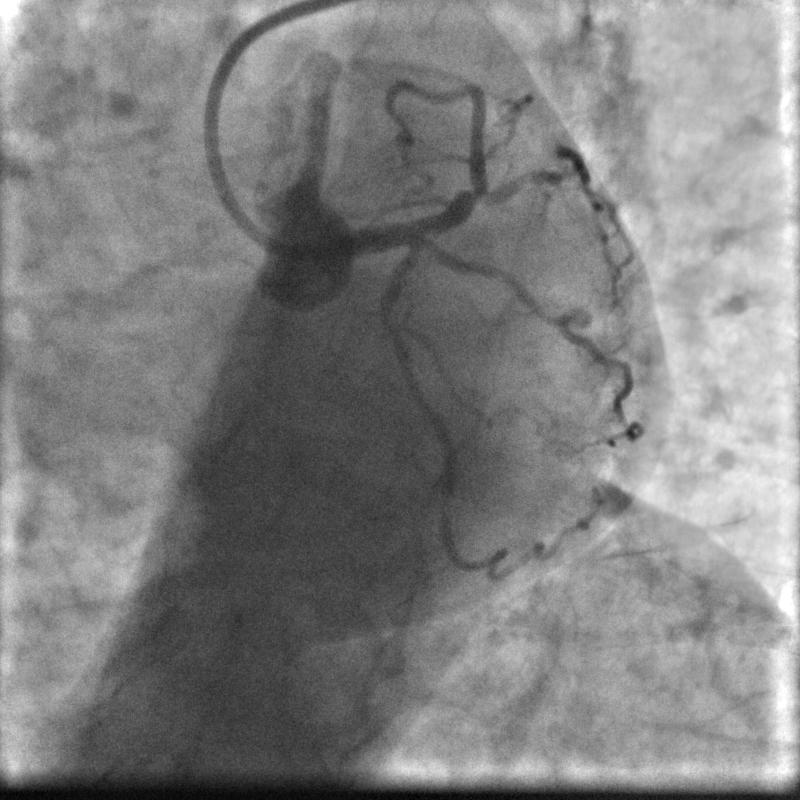Stenosis: (379, 305, 404, 342)
